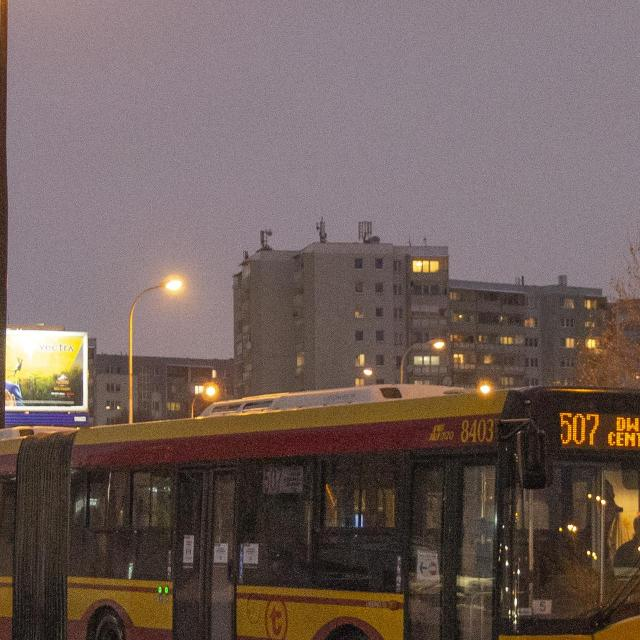Bus: (0, 386, 640, 640)
